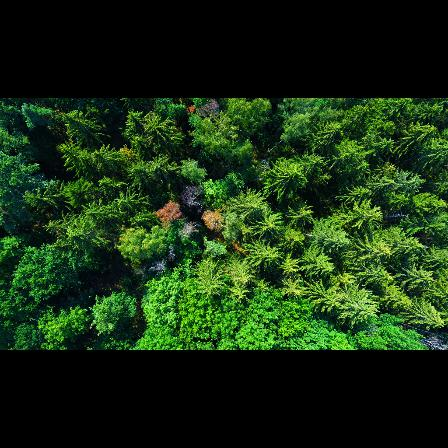Dead: (177, 181, 205, 210), (150, 256, 166, 276)
